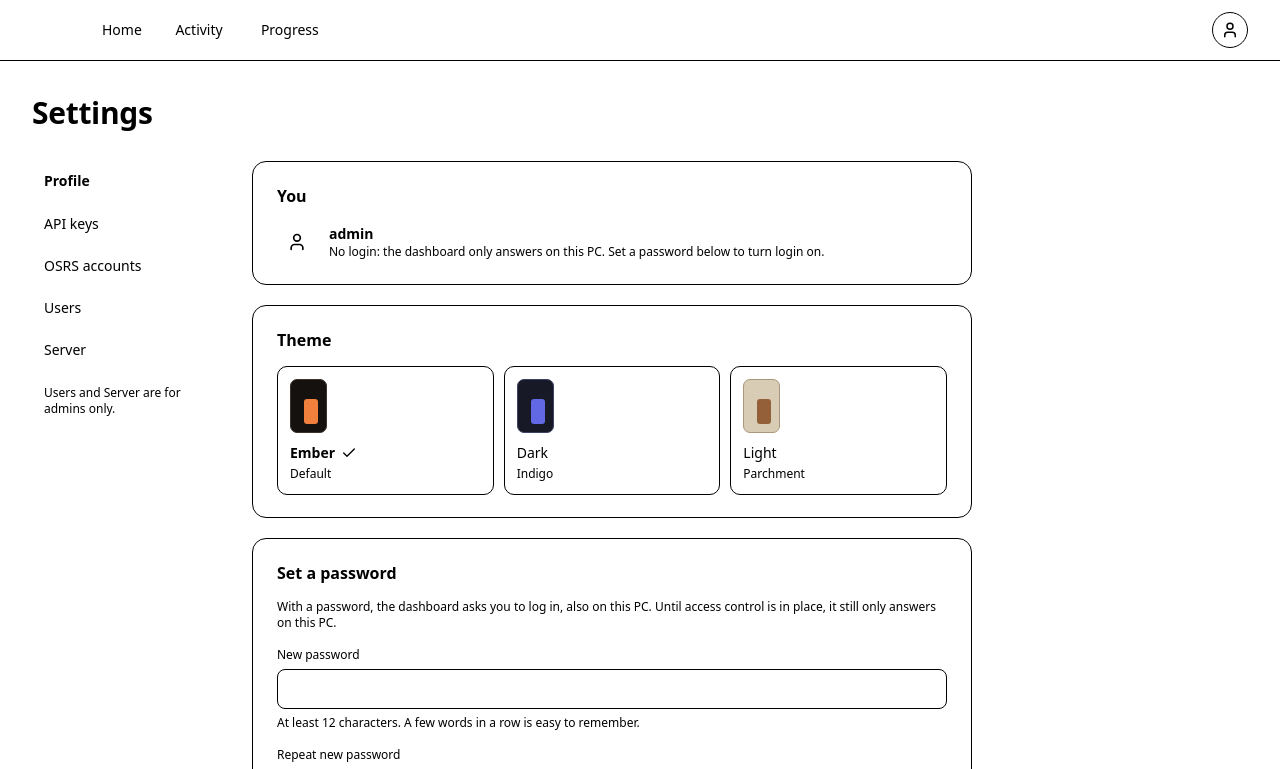
Test: settings menu on PC › opens Settings → Server from Profile for an admin
Click the link "Server".
click(65, 350)  # box left=44, top=340, right=86, bottom=360
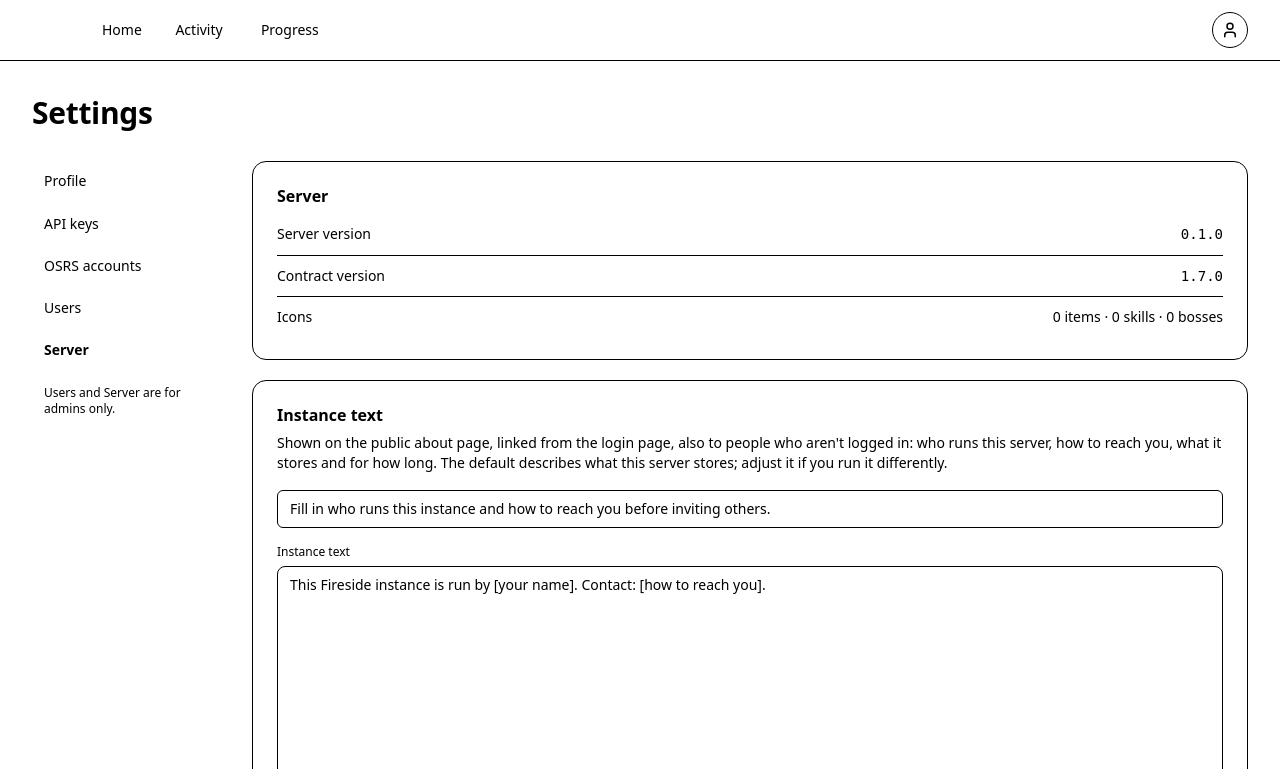
Expected: the text "Server version" is shown, left=277, top=224, right=371, bottom=243
